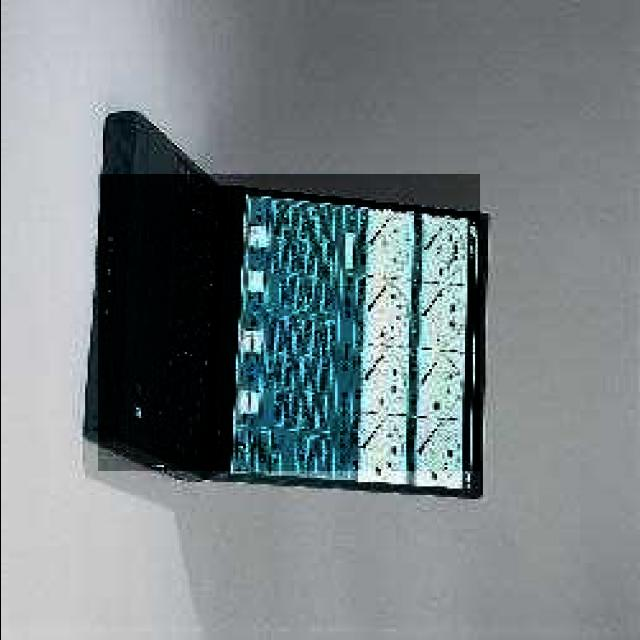-keyboard-: (98, 174, 480, 471)
